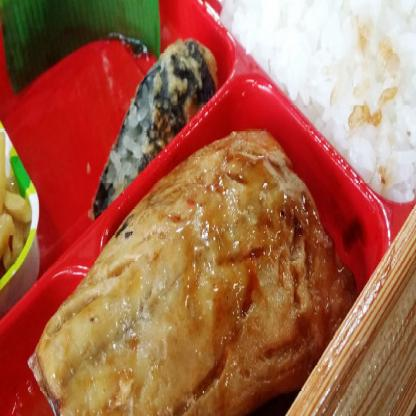Peixe: (42, 106, 334, 416)
